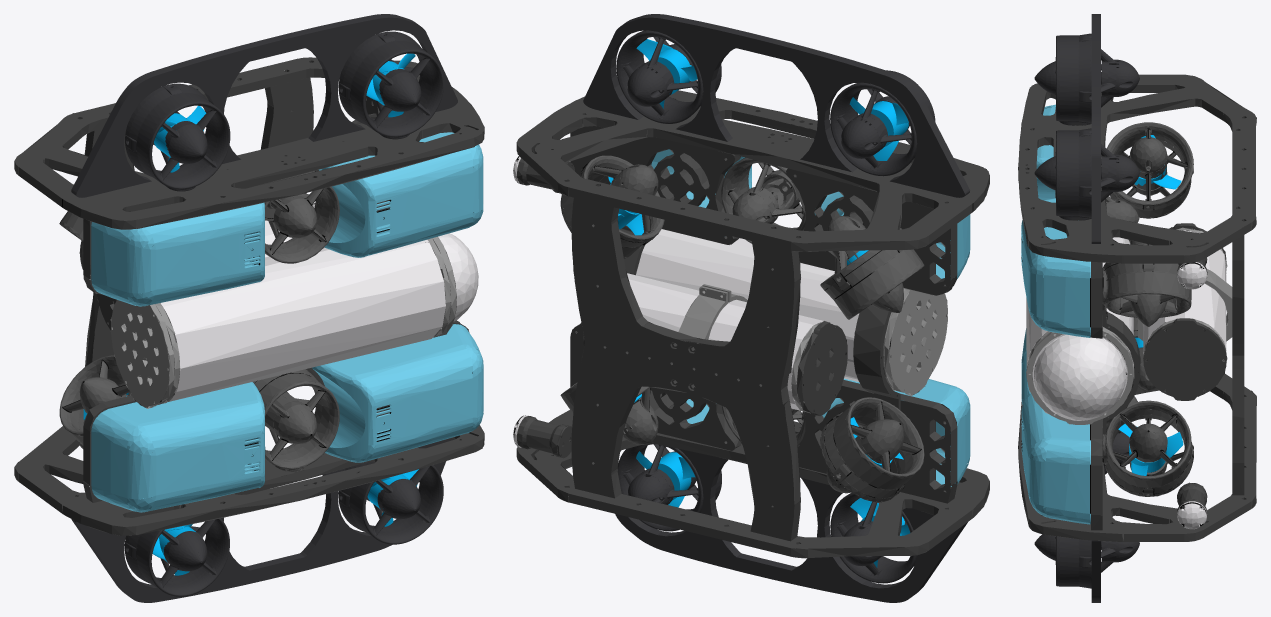
File: bluerov2_heavy_textured.glb
3 renders of one model, left to right at view 1: azimuth 30°, elevation 25°; view 2: azimuth 150°, elevation 25°; view 3: azimuth 270°, elevation 25°, orthographic. The views are drawn at different scales.
Parts seen in each view (by area): view 1: textured_body, heavy_kit, DiveFrontLeft, DiveBackLeft; view 2: textured_body, heavy_kit, DiveBackLeft, DiveFrontLeft, DiveFrontRight; view 3: textured_body, heavy_kit, FrontRight, BackLeft.
Part boxes in pixels (box(x1,y1,x2,y2)): textured_body: box(14, 57, 484, 535); heavy_kit: box(71, 14, 457, 602); DiveFrontLeft: box(366, 53, 415, 117); DiveBackLeft: box(154, 105, 206, 172); textured_body: box(513, 90, 989, 558); heavy_kit: box(583, 14, 969, 602); DiveBackLeft: box(850, 97, 908, 160); DiveFrontLeft: box(636, 39, 697, 108); DiveFrontRight: box(636, 451, 695, 507); textured_body: box(1018, 74, 1256, 541); heavy_kit: box(1034, 14, 1139, 602); FrontRight: box(1118, 424, 1183, 475); BackLeft: box(1134, 135, 1181, 189).
Size of the model in its own units: 0.4576 by 0.5757 by 0.2552.
Materials: 3 (1 with a texture image).
